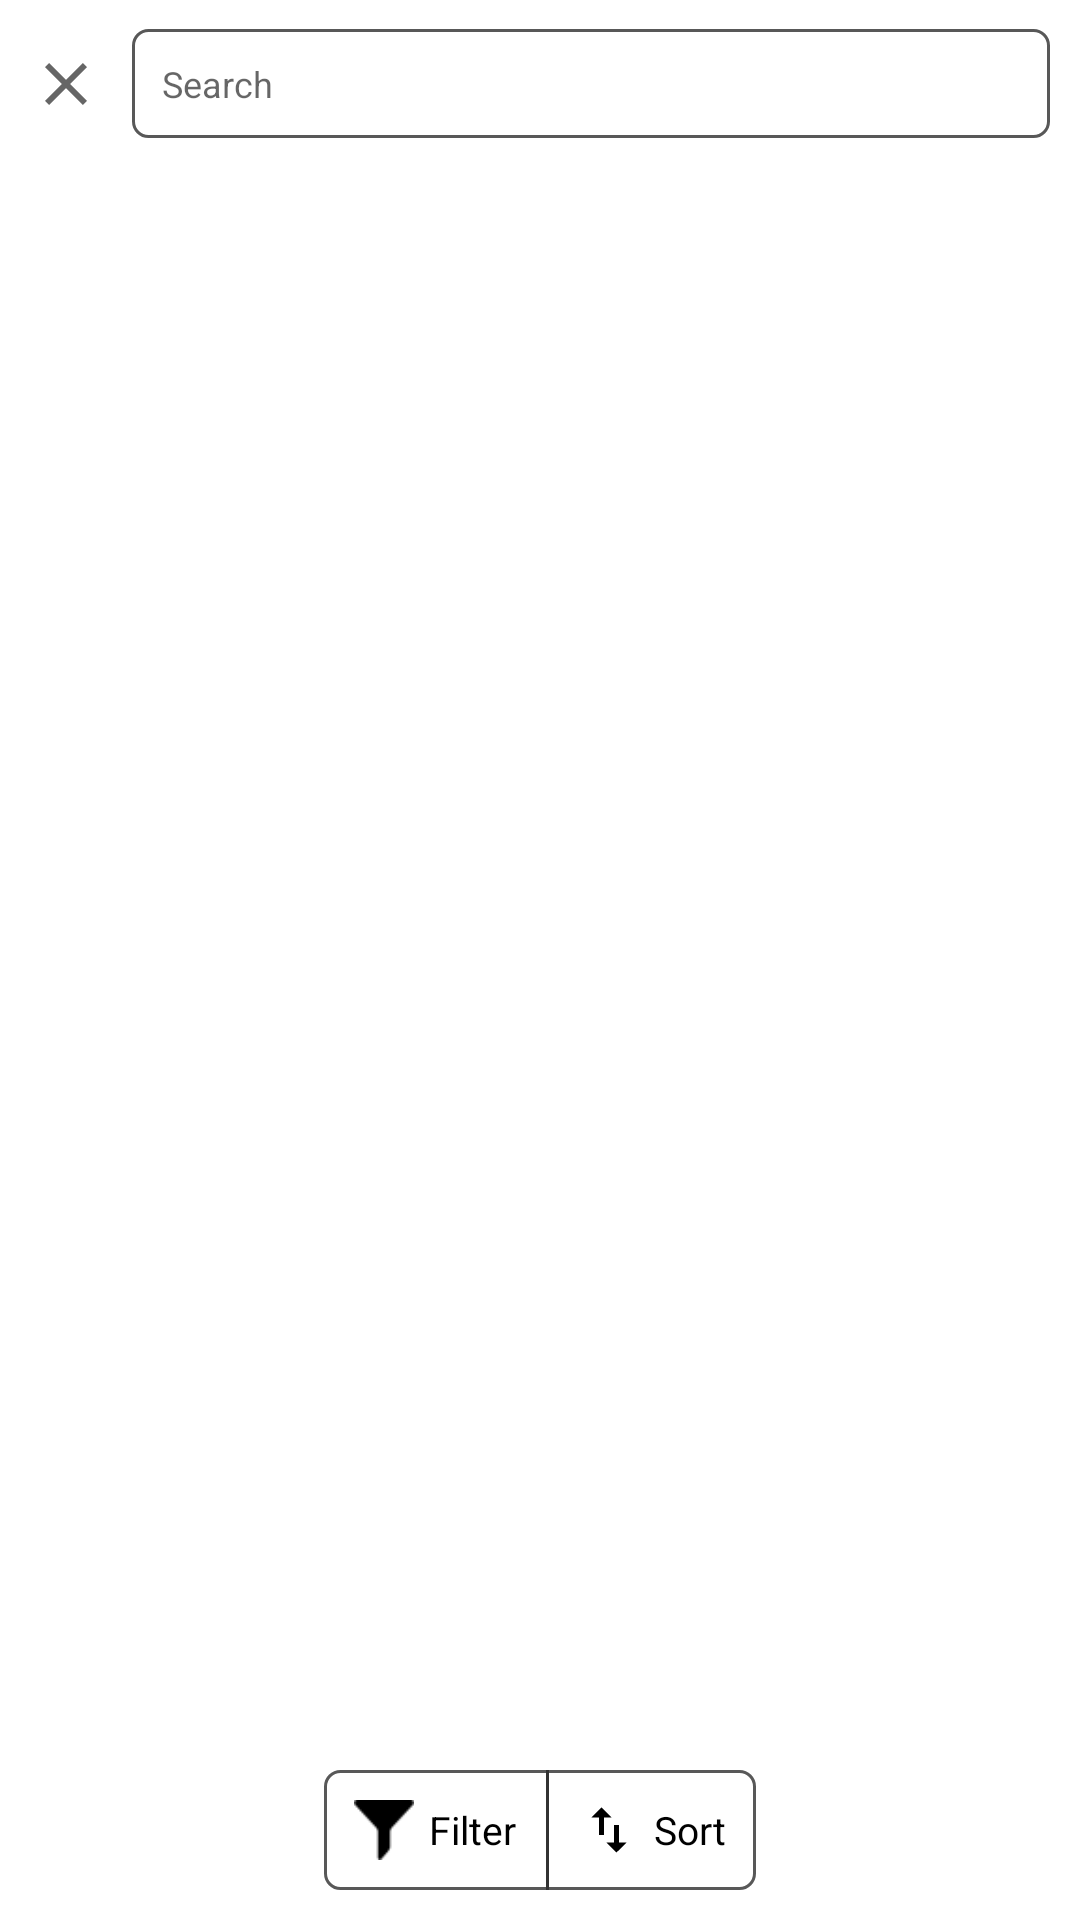

Where icons sit on this 1080×1920 app screen, as (x1, y1, x2, y2):
close: (45, 63, 87, 105)
